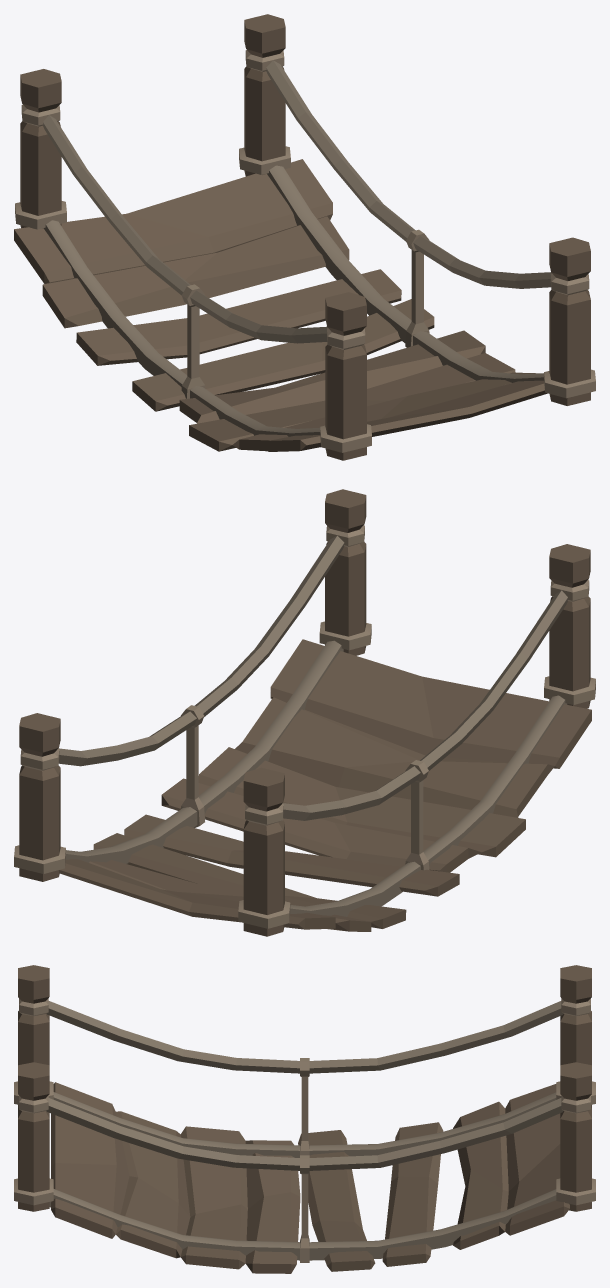
The model's file is SM_Bld_Dock_Bridge_01.glb.
3 views of the same model, one above another, from view 1: azimuth 30°, elevation 25°; view 2: azimuth 150°, elevation 25°; view 3: azimuth 270°, elevation 25° (orthographic). The views are drawn at different scales.
Parts seen in each view (by area): view 1: SM_Bld_Dock_Bridge_01; view 2: SM_Bld_Dock_Bridge_01; view 3: SM_Bld_Dock_Bridge_01.
Part boxes in pixels (x1,y1,x2,y2): SM_Bld_Dock_Bridge_01: (14,14,595,460); SM_Bld_Dock_Bridge_01: (14,489,595,936); SM_Bld_Dock_Bridge_01: (14,965,595,1273).
Bounding box in the file's own units: 0.0218 × 0.0151 × 0.0405.
